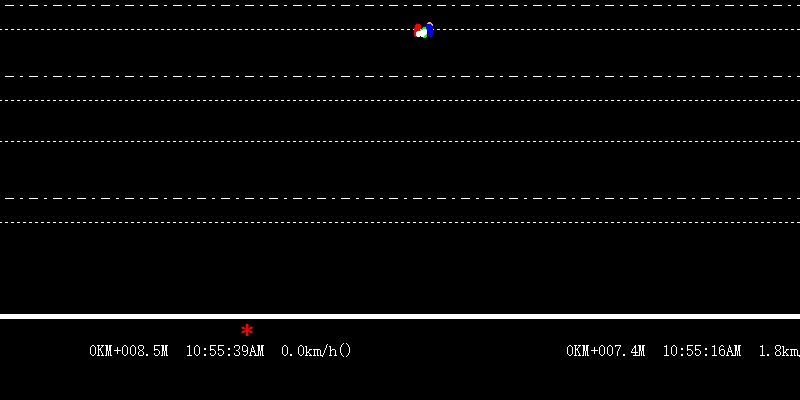face_s: (426, 20, 433, 38)
star: (240, 321, 254, 337)
